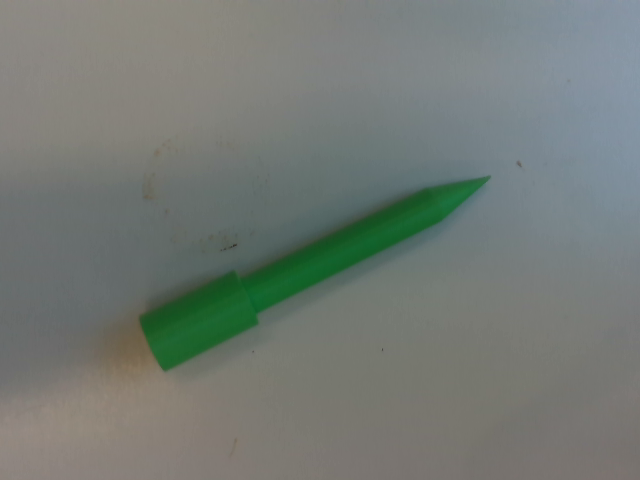Probe: (133, 166, 501, 376)
